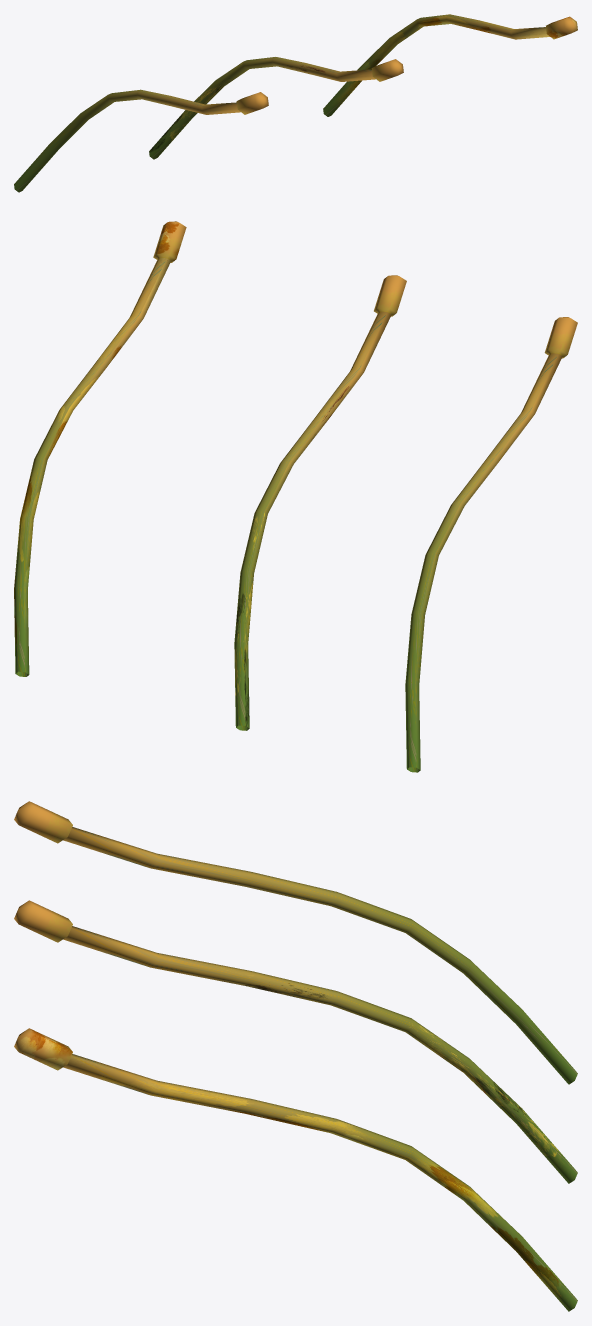
The model's file is Totora.fbx.
3 renders of one model, top to bottom at view 1: azimuth 30°, elevation 25°; view 2: azimuth 150°, elevation 25°; view 3: azimuth 270°, elevation 25°, orthographic. The views are drawn at different scales.
Visible parts, largest first — view 1: Totora, Totora.001, Totora.002; view 2: Totora, Totora.001, Totora.002; view 3: Totora.001, Totora.002, Totora.
Part boxes in pixels (x1,y1,x2,y2): Totora: (14, 89, 268, 192); Totora.001: (149, 57, 403, 159); Totora.002: (323, 14, 577, 116); Totora: (405, 317, 577, 772); Totora.001: (234, 275, 406, 730); Totora.002: (14, 221, 186, 676); Totora.001: (14, 900, 577, 1183); Totora.002: (14, 1028, 577, 1311); Totora: (14, 801, 577, 1084).
Size of the model in its own units: 24.84 by 13.29 by 21.06.
